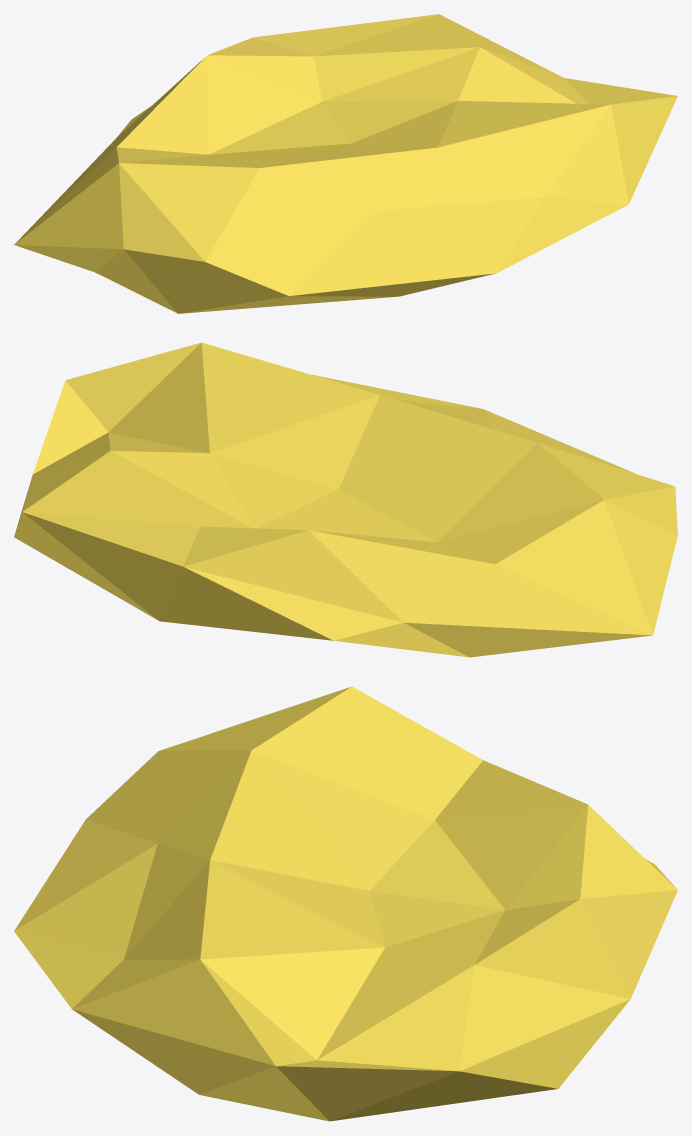
File: wrapper_yellow.fbx
3 renders of one model, top to bottom at view 1: azimuth 30°, elevation 25°; view 2: azimuth 150°, elevation 25°; view 3: azimuth 270°, elevation 25°, orthographic. The views are drawn at different scales.
Parts seen in each view (by area): view 1: wrapper_yellow; view 2: wrapper_yellow; view 3: wrapper_yellow.
Boxes of the visible parts, x1,y1,x2,y2 form: wrapper_yellow: (14,14,677,313); wrapper_yellow: (14,342,677,657); wrapper_yellow: (14,686,677,1121).
Bounding box in the file's own units: 0.0726 × 0.016 × 0.0543.
